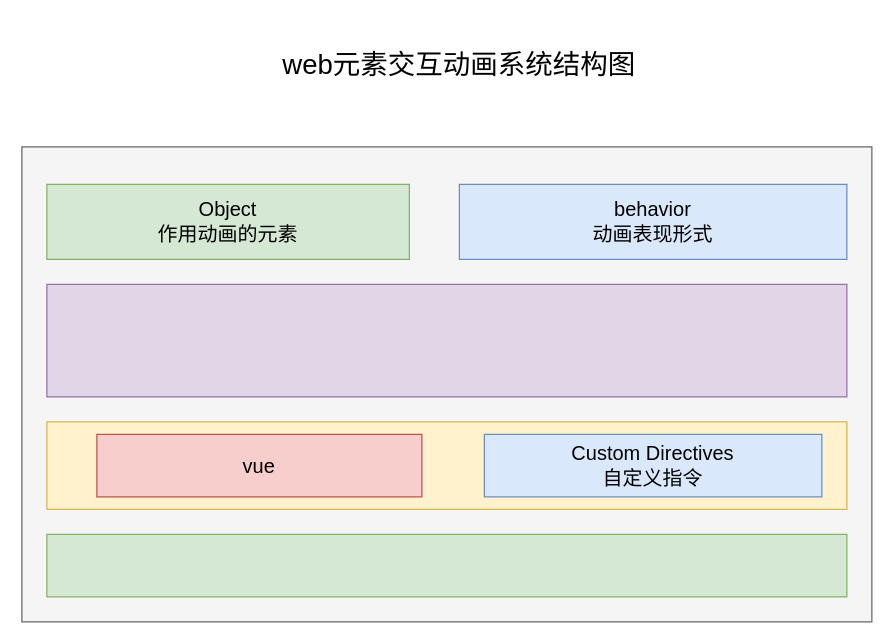
This 894x644 diagram has some shape labels left out. The shapes that lost their labels are listed below. From the top down, each one's centre as x and y in pixels, then its label:
At point (446, 340): "adapter 适配第三方UI组件库".
At point (446, 565): "animate.css".
